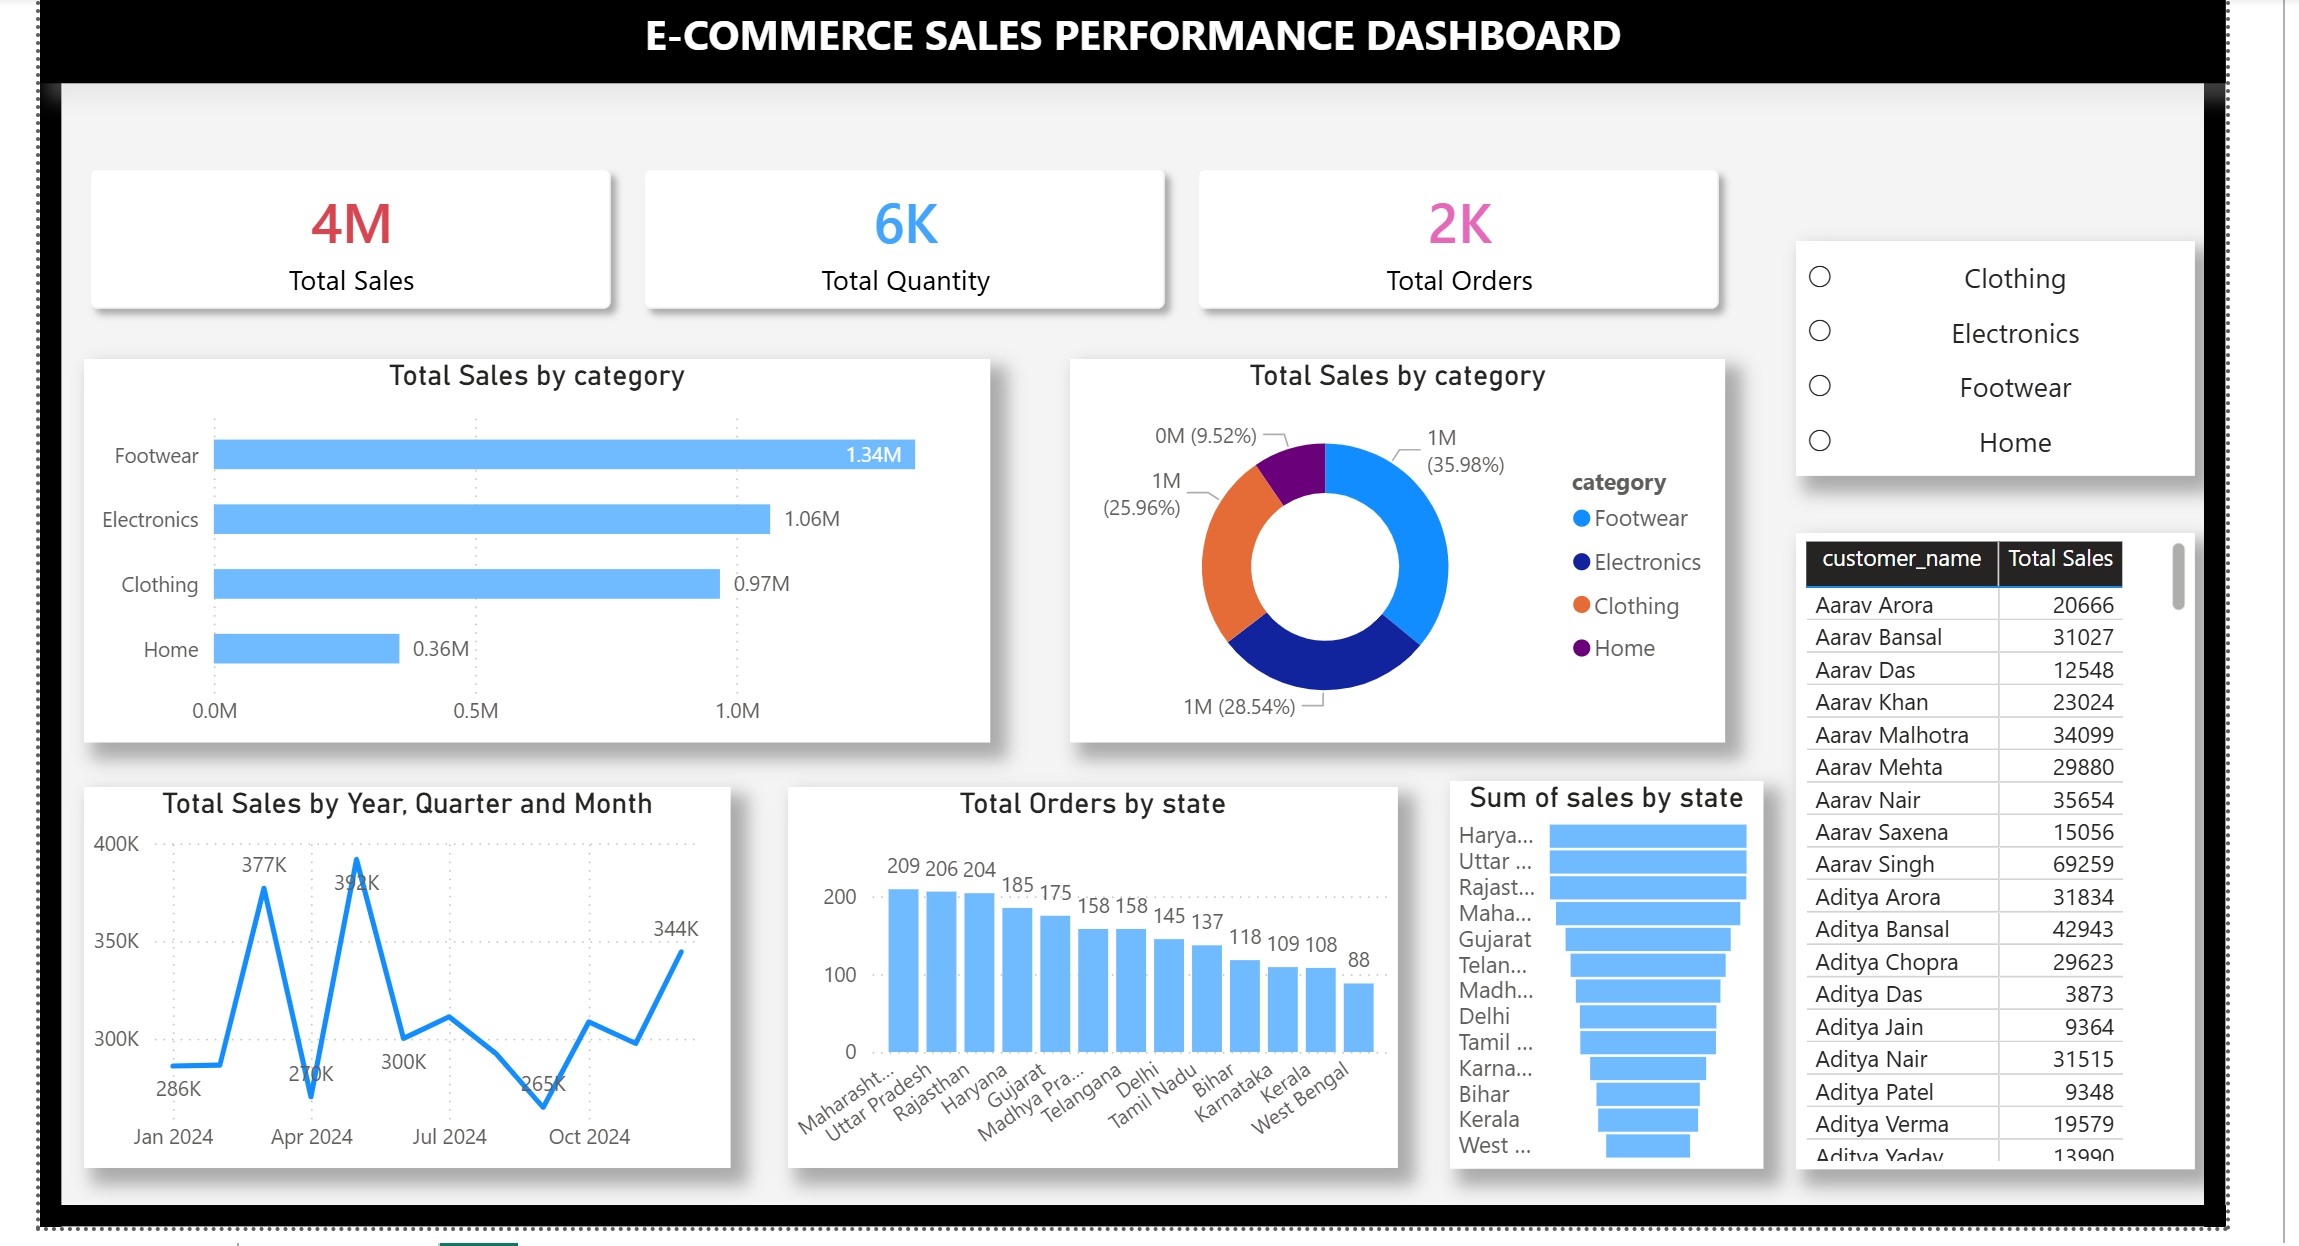

The dashboard page shown, as its layout file describes it:
{"tool":"powerbi","page":{"name":"E commers","canvas":[1280,720],"ordinal":0},"visuals":[{"type":"shape","box":[0,0,1280,720.3],"z":0},{"type":"cardVisual","fields":{"Data":["Customer table.Total Sales"]},"box":[0,71.4,363.3,140.2],"z":0,"group":"g1"},{"type":"group","id":"g1","title":"Group 1","box":[0,71.4,1012.3,140.2],"z":1000},{"type":"cardVisual","fields":{"Data":["Customer table.Total Quantity"]},"box":[323.8,71.4,363.3,140.2],"z":1000,"group":"g1"},{"type":"cardVisual","fields":{"Data":["Customer table.Total Orders"]},"box":[648.9,71.4,363.3,140.2],"z":2000,"group":"g1"},{"type":"clusteredBarChart","fields":{"Y":["Customer table.Total Sales"],"Category":["Product table.category"]},"box":[25.5,211.6,530.4,224.4],"z":2000},{"type":"lineChart","fields":{"Y":["Customer table.Total Sales"],"Category":["Order table.order_date.Variation.Date Hierarchy.Year","Order table.order_date.Variation.Date Hierarchy.Quarter","Order table.order_date.Variation.Date Hierarchy.Month"]},"box":[25.5,462.8,378.6,223.1],"z":3000},{"type":"donutChart","fields":{"Category":["Product table.category"],"Y":["Customer table.Total Sales"]},"box":[603,211.6,383.7,224.4],"z":4000},{"type":"tableEx","fields":{"Values":["Customer table.customer_name","Customer table.Total Sales"]},"box":[1027.6,313.6,233.3,372.3],"z":5000},{"type":"columnChart","fields":{"Y":["Customer table.Total Orders"],"Category":["Customer table.state"]},"box":[437.3,462.8,357,223.1],"z":6000},{"type":"listSlicer","fields":{"Values":["Product table.category"]},"box":[1027.6,142.8,233.3,137.7],"z":7000},{"type":"funnel","fields":{"Category":["Customer table.state"],"Y":["Sum(Order table.sales)"]},"box":[824.9,459,183.6,226.9],"z":8000},{"type":"shape","box":[0,707.6,1280,12.7],"z":9000},{"type":"shape","box":[0,24.2,12.7,697.4],"z":10000},{"type":"shape","box":[1267.3,22.9,12.7,697.4],"z":11000},{"type":"textbox","box":[0,0,1279.6,50.3],"z":12000}]}

Visuals, with their boxes in screenshot pixels (x1, y1, x2, y2):
shape: region(30, 0, 2213, 1223)
cardVisual - Customer table.Total Sales: region(30, 116, 650, 355)
"Group 1" group: region(30, 116, 1757, 355)
cardVisual - Customer table.Total Quantity: region(582, 116, 1202, 355)
cardVisual - Customer table.Total Orders: region(1137, 116, 1756, 355)
clusteredBarChart - Customer table.Total Sales x Product table.category: region(73, 355, 978, 738)
lineChart - Customer table.Total Sales x Order table.order_date.Variation.Date Hierarchy.Year: region(73, 783, 719, 1164)
donutChart - Product table.category x Customer table.Total Sales: region(1058, 355, 1713, 738)
tableEx - Customer table.customer_name x Customer table.Total Sales: region(1783, 529, 2181, 1164)
columnChart - Customer table.Total Orders x Customer table.state: region(776, 783, 1385, 1164)
listSlicer - Product table.category: region(1783, 238, 2181, 472)
funnel - Customer table.state x Sum(Order table.sales): region(1437, 777, 1750, 1164)
shape: region(30, 1201, 2213, 1223)
shape: region(30, 35, 52, 1225)
shape: region(2192, 33, 2213, 1223)
textbox: region(30, 0, 2212, 80)
